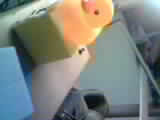duck: (51, 2, 111, 41)
